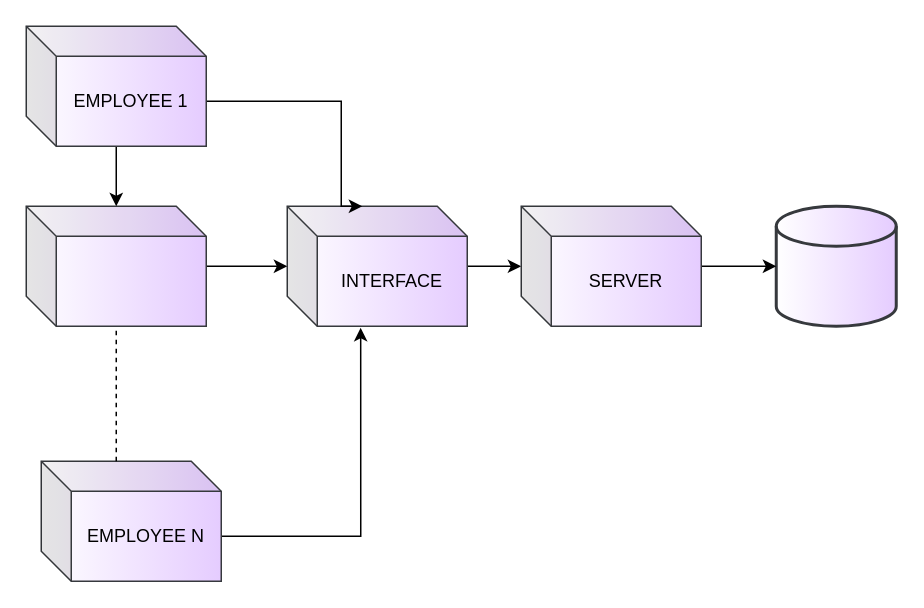
Some shapes in this 924 by 608 pixel diagram are drawn without their labels. The shapes that lost their labels are listed below. From the top down, each one's centre as x and y in pixels, then its label:
At (x=115, y=265): "EMPLOYEE 2".
At (x=835, y=265): "DATABASE".
